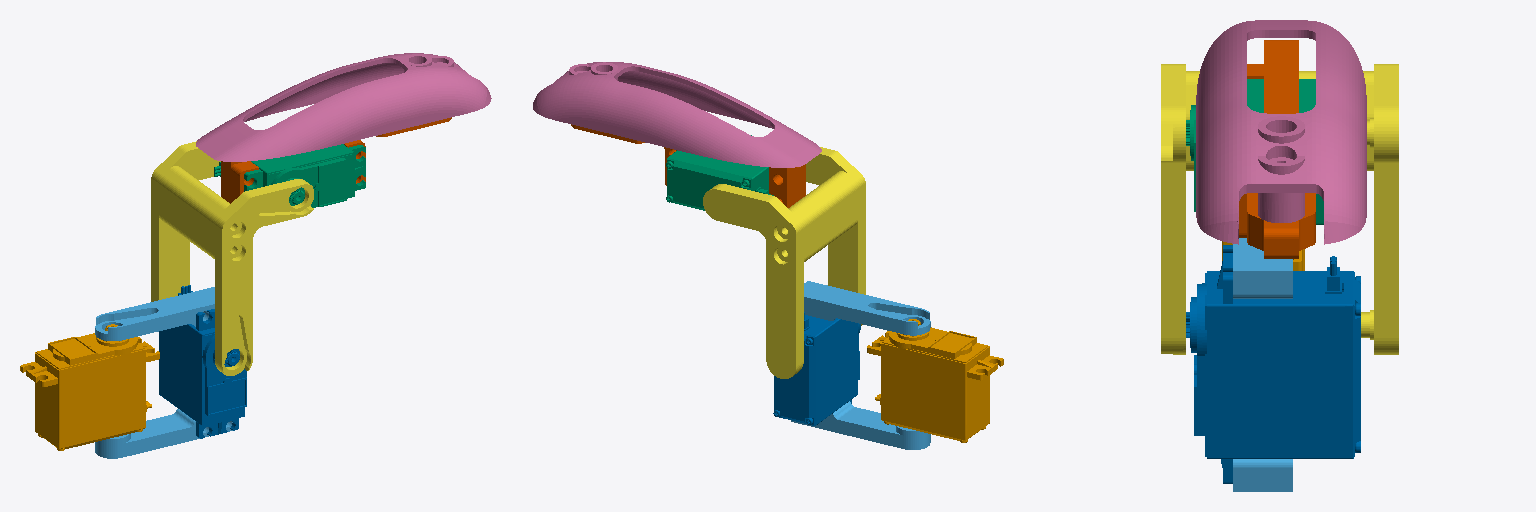
The robot description file, URDF, robot "leg_left":
<?xml version='1.0' encoding='utf-8'?>
<robot name="leg_left">
    <link name="base_link">
        <inertial>
            <origin xyz="0.020178447972789563 0.009750002219071822 -0.008216241413562224" rpy="0.0 0.0 0.0" />
            <mass value="0.20641808912389753" />
            <inertia ixx="2.7773631636875534e-05" iyy="5.0476740936021815e-05" izz="3.601102430698472e-05" ixy="3.0326974858794174e-12" iyz="-6.6531359313112565e-12" ixz="-7.930775065286786e-07" />
        </inertial>
        <visual name="base_link_visual">
            <origin xyz="0.0 0.0 0.0" rpy="0.0 0.0 0.0" />
            <geometry>
                <mesh filename="meshes/MG996.stl" scale="0.001 0.001 0.001" />
            </geometry>
        </visual>
        <collision name="base_link_collision">
            <origin xyz="0.0 0.0 0.0" rpy="0.0 0.0 0.0" />
            <geometry>
                <mesh filename="meshes/MG996.stl" scale="0.001 0.001 0.001" />
            </geometry>
        </collision>
    </link>
    <link name="coxa">
        <inertial>
            <origin xyz="0.025372840494155998 0.0001517412308552435 -0.024879639248893887" rpy="0.0 -0.0 0.0" />
            <mass value="0.07898637744159481" />
            <inertia ixx="4.9631397413613987e-05" iyy="7.128210635971058e-05" izz="2.426587777631001e-05" ixy="-2.1127014630334612e-07" iyz="-3.990735837688566e-08" ixz="-5.949787137622565e-06" />
        </inertial>
        <visual name="coxa_visual">
            <origin xyz="0.053000000000000005 -8.881784197001253e-18 0.001000000000000003" rpy="3.141592653589793 -0.0 -1.5707963267948968" />
            <geometry>
                <mesh filename="meshes/coxa_left.stl" scale="0.001 0.001 0.001" />
            </geometry>
        </visual>
        <collision name="coxa_collision">
            <origin xyz="0.053000000000000005 -8.881784197001253e-18 0.001000000000000003" rpy="3.141592653589793 -0.0 -1.5707963267948968" />
            <geometry>
                <mesh filename="meshes/coxa_left.stl" scale="0.001 0.001 0.001" />
            </geometry>
        </collision>
    </link>
    <link name="MG996t">
        <inertial>
            <origin xyz="0.010071550349059263 -0.019266241413562205 7.12650627399114e-09" rpy="0.0 -0.0 0.0" />
            <mass value="0.20641808912389753" />
            <inertia ixx="2.777363163687565e-05" iyy="3.60110243069851e-05" izz="5.047674093602156e-05" ixy="7.930775065287192e-07" iyz="-6.6531359143705976e-12" ixz="-3.032697573970844e-12" />
        </inertial>
        <visual name="MG996t_visual">
            <origin xyz="0.030249998321848822 -0.011049999999999978 -0.009749995092565538" rpy="1.5707963267948966 3.7141449244047545e-16 -3.141592653589793" />
            <geometry>
                <mesh filename="meshes/MG996.stl" scale="0.001 0.001 0.001" />
            </geometry>
        </visual>
        <collision name="MG996t_collision">
            <origin xyz="0.030249998321848822 -0.011049999999999978 -0.009749995092565538" rpy="1.5707963267948966 3.7141449244047545e-16 -3.141592653589793" />
            <geometry>
                <mesh filename="meshes/MG996.stl" scale="0.001 0.001 0.001" />
            </geometry>
        </collision>
    </link>
    <link name="femur">
        <inertial>
            <origin xyz="0.0031247845947285045 0.02288109973213505 0.04552760716696307" rpy="0.0 -0.0 0.0" />
            <mass value="0.2061355014221325" />
            <inertia ixx="0.00015591895757969344" iyy="8.65680979786215e-05" izz="0.00010098830847278593" ixy="-3.823774703444753e-06" iyz="4.634784730526975e-06" ixz="-1.151312781947386e-05" />
        </inertial>
        <visual name="femur_visual">
            <origin xyz="-1.7763568394002505e-17 0.04299999999999999 -2.7755575615628914e-19" rpy="1.5707963267948966 -0.6108652381980157 -1.8369701987210292e-16" />
            <geometry>
                <mesh filename="meshes/femur_left.stl" scale="0.001 0.001 0.001" />
            </geometry>
        </visual>
        <collision name="femur_collision">
            <origin xyz="-1.7763568394002505e-17 0.04299999999999999 -2.7755575615628914e-19" rpy="1.5707963267948966 -0.6108652381980157 -1.8369701987210292e-16" />
            <geometry>
                <mesh filename="meshes/femur_left.stl" scale="0.001 0.001 0.001" />
            </geometry>
        </collision>
    </link>
    <link name="MG996f">
        <inertial>
            <origin xyz="-0.024521552027210437 -0.00821624141356221 0.005249997780928189" rpy="0.0 -0.0 0.0" />
            <mass value="0.20641808912389753" />
            <inertia ixx="2.7773631636875216e-05" iyy="3.601102430698445e-05" izz="5.047674093602177e-05" ixy="-7.930775065286955e-07" iyz="6.6531359143705976e-12" ixz="-3.0326975197607353e-12" />
        </inertial>
        <visual name="MG996f_visual">
            <origin xyz="-0.04470000000000001 1.7208456881689926e-17 0.01500000000000001" rpy="-1.5707963267948968 1.2246467991473532e-16 -3.374459510989179e-32" />
            <geometry>
                <mesh filename="meshes/MG996.stl" scale="0.001 0.001 0.001" />
            </geometry>
        </visual>
        <collision name="MG996f_collision">
            <origin xyz="-0.04470000000000001 1.7208456881689926e-17 0.01500000000000001" rpy="-1.5707963267948968 1.2246467991473532e-16 -3.374459510989179e-32" />
            <geometry>
                <mesh filename="meshes/MG996.stl" scale="0.001 0.001 0.001" />
            </geometry>
        </collision>
    </link>
    <link name="tibia">
        <inertial>
            <origin xyz="0.046493431001056094 0.010005948932875963 0.013220214065198563" rpy="0.0 -0.0 1.6867516709168863e-80" />
            <mass value="0.09285304614043133" />
            <inertia ixx="6.422753246891307e-06" iyy="0.00010153034858821023" izz="9.868903018825999e-05" ixy="-2.666687042112944e-06" iyz="-9.576742803426994e-07" ixz="-8.30271171873133e-06" />
        </inertial>
        <visual name="tibia_visual">
            <origin xyz="0.0442999983218488 0.007299999999999977 -0.004750004907434491" rpy="1.5707963267948963 -1.5707963267948963 0" />
            <geometry>
                <mesh filename="meshes/tibia_left.stl" scale="0.001 0.001 0.001" />
            </geometry>
        </visual>
        <collision name="tibia_collision">
            <origin xyz="0.0442999983218488 0.007299999999999977 -0.004750004907434491" rpy="1.5707963267948963 -1.5707963267948963 0" />
            <geometry>
                <mesh filename="meshes/tibia_left.stl" scale="0.001 0.001 0.001" />
            </geometry>
        </collision>
    </link>
    <link name="shield">
        <inertial>
            <origin xyz="0.007956859434655402 -3.2144871100037163e-07 -0.0321371519194412" rpy="0.0 -0.0 0.0" />
            <mass value="0.09400422482344938" />
            <inertia ixx="0.00011235877990886352" iyy="9.902587291231446e-05" izz="1.788072280884507e-05" ixy="-4.0860511541396683e-10" iyz="1.635332190030956e-10" ixz="-3.853286382860411e-06" />
        </inertial>
        <visual name="shield_visual">
            <origin xyz="-4.907434512091414e-09 0.020000000000000018 0.01800000080575984" rpy="-9.638285641715587e-32 1.570796326794896 0" />
            <geometry>
                <mesh filename="meshes/shield.stl" scale="0.001 0.001 0.001" />
            </geometry>
        </visual>
        <collision name="shield_collision">
            <origin xyz="-4.907434512091414e-09 0.020000000000000018 0.01800000080575984" rpy="-9.638285641715587e-32 1.570796326794896 0" />
            <geometry>
                <mesh filename="meshes/shield.stl" scale="0.001 0.001 0.001" />
            </geometry>
        </collision>
    </link>
    <joint name="coxa_joint" type="revolute">
        <origin xyz="0.03025 0.00975 0.01005" rpy="0.0 -0.0 0.0" />
        <parent link="base_link" />
        <child link="coxa" />
        <axis xyz="0.0 0.0 1.0" />
        <limit lower="-1.570796" upper="1.570796" effort="1000000" velocity="1000000" />
    </joint>
    <joint name="coxa_MG996f_fixed" type="fixed">
        <origin xyz="0.03775 -0.006999999999999999 0.0027500000000000016" rpy="-3.141592653589793 -1.5707963267948966 0" />
        <parent link="coxa" />
        <child link="MG996f" />
    </joint>
    <joint name="tibia_joint" type="revolute">
        <origin xyz="0.02958327999999999 -0.0009999999999999998 0.06344155" rpy="3.141592653589793 1.0512152450865103e-32 0.0" />
        <parent link="femur" />
        <child link="MG996t" />
        <axis xyz="0.0 -1.0 -0.0" />
        <limit lower="0.0" upper="1.570796" effort="1000000" velocity="1000000" />
    </joint>
    <joint name="femur_joint" type="revolute">
        <origin xyz="-0.014450000000000001 0.01005 0.005250000000000004" rpy="-3.141592653589793 -1.5707963267948966 0" />
        <parent link="MG996f" />
        <child link="femur" />
        <axis xyz="0.0 -1.0 0.0" />
        <limit lower="-2.356194" upper="0.0" effort="1000000" velocity="1000000" />
    </joint>
    <joint name="MG996t_tibia_fixed" type="fixed">
        <origin xyz="-0.014449999999999985 -0.01105 0.005249999999999995" rpy="-3.141592653589793 -1.413975083729151e-32 4.930380657631324e-32" />
        <parent link="MG996t" />
        <child link="tibia" />
    </joint>
    <joint name="tibia_shield_fixed" type="fixed">
        <origin xyz="0.09324641 0.0113 0.02125" rpy="-3.141592653589793 -1.5707963267948966 0" />
        <parent link="tibia" />
        <child link="shield" />
    </joint>
</robot>

--- What the picture shows (computed from the rendered views, not written in the file) ---
The picture shows the robot from 3 angles, left to right: view 1: azimuth 30°, elevation 25°; view 2: azimuth 150°, elevation 25°; view 3: azimuth 270°, elevation 25°; orthographic projection.
Model leg_left with 7 links and 6 joints (3 revolute, 3 fixed), rooted at base_link, posed every joint at zero.
Links seen in each view (by area): view 1: shield, femur, base_link, MG996f, coxa, MG996t, tibia; view 2: shield, femur, base_link, MG996f, coxa, MG996t, tibia; view 3: MG996f, shield, femur, tibia, coxa, MG996t.
Link boxes in pixels (left/top/right/bottom): shield: left=196, top=53, right=491, bottom=161; femur: left=151, top=141, right=313, bottom=375; base_link: left=20, top=324, right=159, bottom=450; MG996f: left=159, top=285, right=246, bottom=438; coxa: left=95, top=287, right=232, bottom=458; MG996t: left=214, top=144, right=365, bottom=207; tibia: left=221, top=117, right=451, bottom=203; shield: left=533, top=62, right=821, bottom=167; femur: left=703, top=147, right=865, bottom=378; base_link: left=867, top=319, right=1003, bottom=442; MG996f: left=773, top=312, right=860, bottom=425; coxa: left=791, top=281, right=930, bottom=449; MG996t: left=666, top=135, right=773, bottom=210; tibia: left=571, top=124, right=805, bottom=207; MG996f: left=1186, top=245, right=1360, bottom=483; shield: left=1196, top=20, right=1366, bottom=244; femur: left=1161, top=64, right=1398, bottom=354; tibia: left=1239, top=40, right=1315, bottom=258; coxa: left=1233, top=238, right=1292, bottom=491; MG996t: left=1186, top=79, right=1323, bottom=224.
Size in the robot's own frame: 0.206 by 0.056 by 0.1358 metres.
7 mesh visuals loaded from 5 distinct referenced files (5 binary STL).